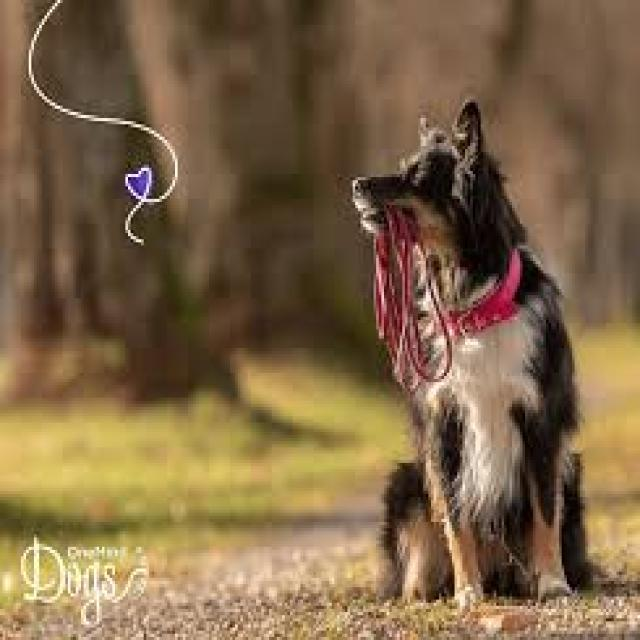ALASKAN_MALAMUTE: (315, 72, 634, 628)
